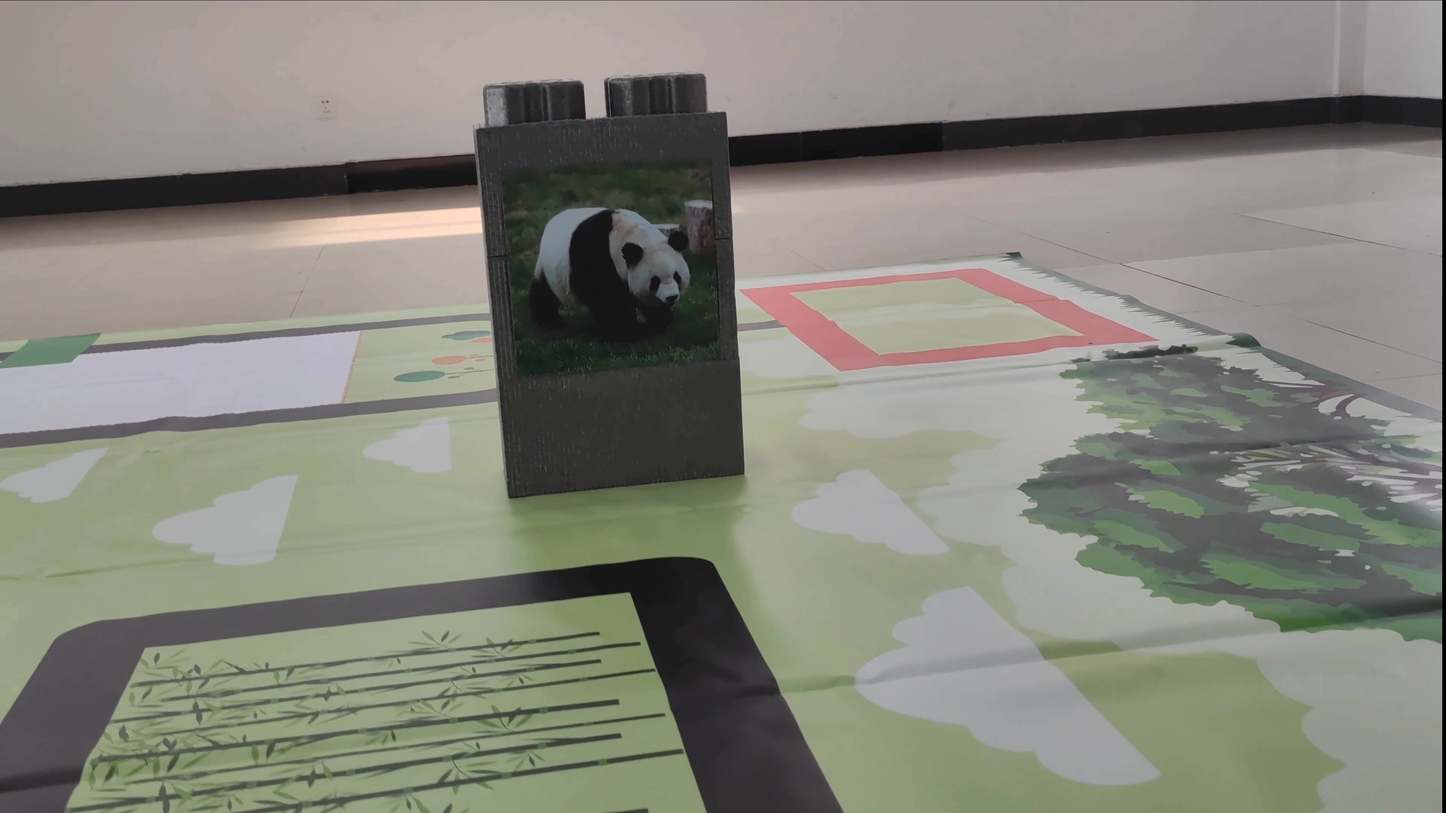panda: (512, 172, 722, 349)
